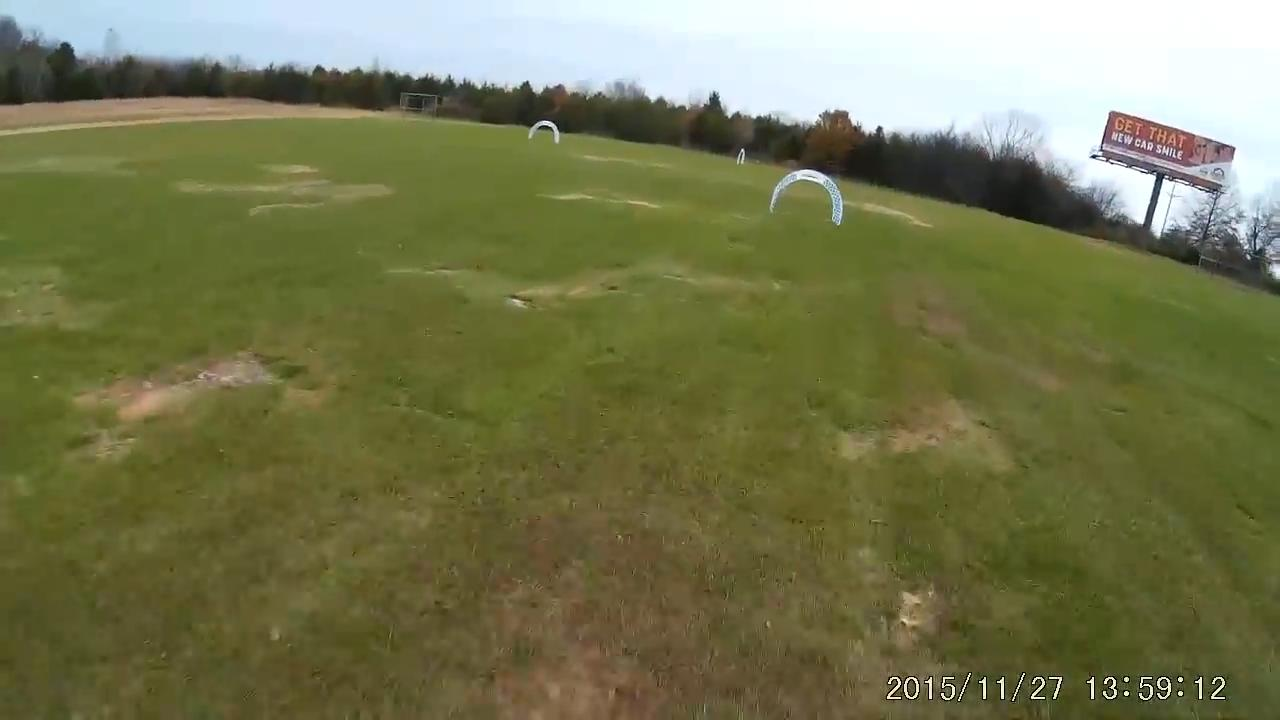gate: (769, 169, 841, 226)
